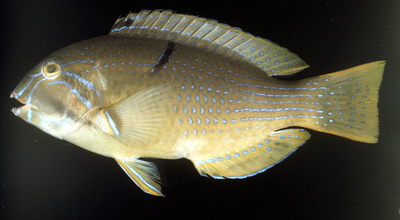fish: (10, 9, 388, 196)
